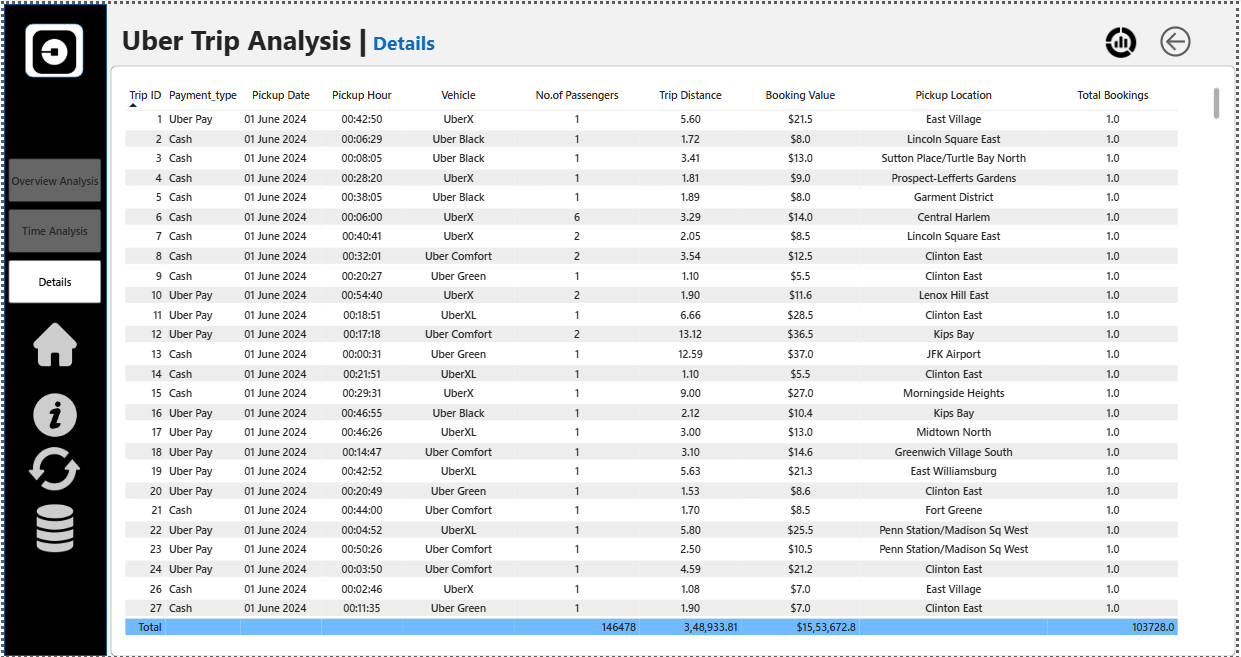

Layout of this report page (visuals, bound fields, positions):
{"tool":"powerbi","page":{"name":"Details","canvas":[1700,900],"ordinal":2},"visuals":[{"type":"shape","box":[147,84.9,1553,815.8],"z":0},{"type":"shape","box":[0,0,142,900],"z":1000},{"type":"textbox","box":[157.7,17.7,607.7,66.9],"z":2000},{"type":"tableEx","fields":{"Values":["Trip Details.Trip ID","Trip Details.Payment_type","Trip Details.Pickup Date","Trip Details.Pickup Hour (HH MM SS)","Trip Details.Vehicle","Sum(Trip Details.passenger_count)","Trip Details.Total Trip Distance Measure","Trip Details.Total Booking Value","Location Table.Location","Trip Details.Total Bookings"]},"box":[161.5,109.7,1521.9,766.1],"z":3000},{"type":"actionButton","box":[1590.2,24.8,109.7,53.8],"z":4000},{"type":"image","box":[1513.8,26.3,57,52.6],"z":5000},{"type":"shape","box":[29,26.9,80.8,74.5],"z":6000},{"type":"image","box":[29,31.1,80.8,70.4],"z":7000},{"type":"pageNavigator","box":[6.2,213.3,128.4,200.8],"z":8000},{"type":"image","box":[35.2,430.7,70.4,78.7],"z":9000},{"type":"image","box":[35.2,532.1,70.4,70.4],"z":10000},{"type":"image","box":[29,594.3,80.8,95.2],"z":11000},{"type":"image","box":[20.7,685.4,99.4,76.6],"z":12000}]}

Visuals, with their boxes on the page's 1700x900 design canvas (x1, y1, x2, y2). These are canvas units, not pixel positions in the 1241x657 screenshot, which may show the page scaled, cropped or inside an application window:
shape: 147/85/1700/901
shape: 0/0/142/900
textbox: 158/18/765/85
tableEx - Trip Details.Trip ID x Trip Details.Payment_type: 162/110/1683/876
actionButton: 1590/25/1700/79
image: 1514/26/1571/79
shape: 29/27/110/101
image: 29/31/110/102
pageNavigator: 6/213/135/414
image: 35/431/106/509
image: 35/532/106/602
image: 29/594/110/690
image: 21/685/120/762
